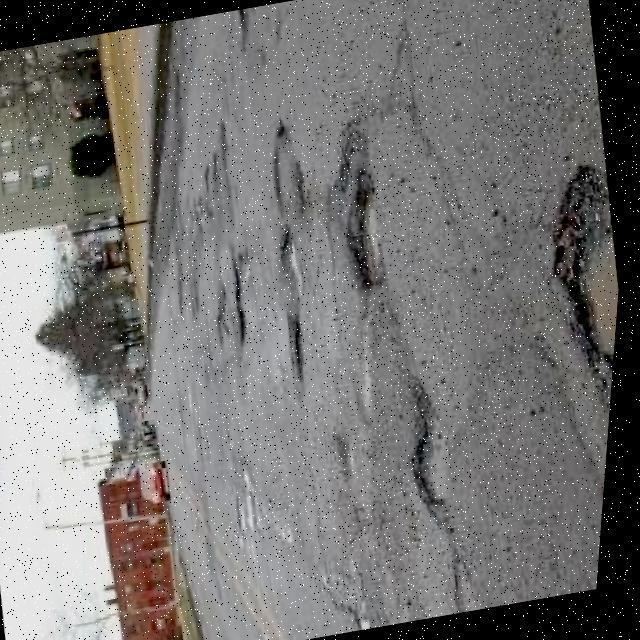pothole: (524, 159, 630, 425), (398, 385, 472, 518), (262, 231, 326, 382), (330, 163, 400, 294), (255, 121, 317, 224), (222, 240, 270, 345), (230, 8, 253, 41)
